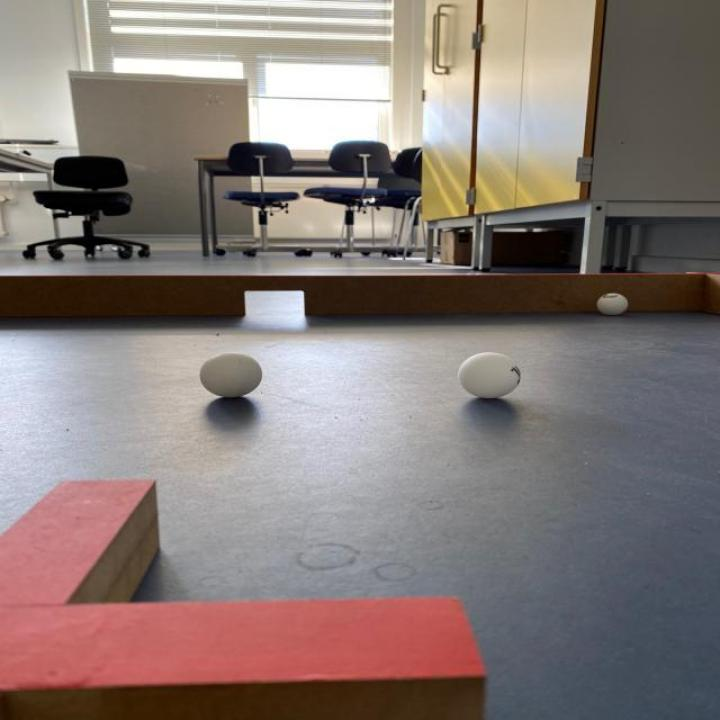white: (198, 351, 263, 398), (458, 351, 521, 397), (596, 292, 629, 316)
